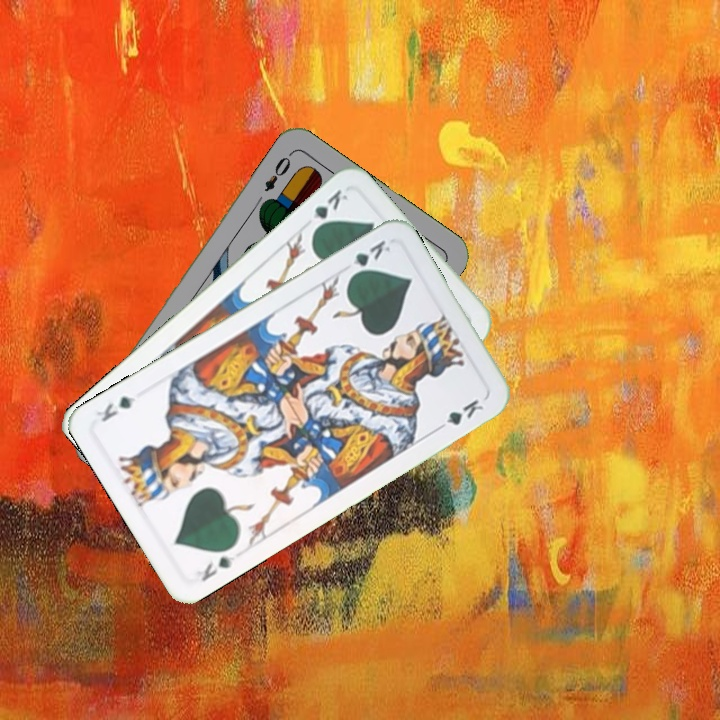EO: (260, 148, 295, 195)
GK: (345, 236, 394, 280), (308, 185, 350, 235), (197, 550, 238, 584)
